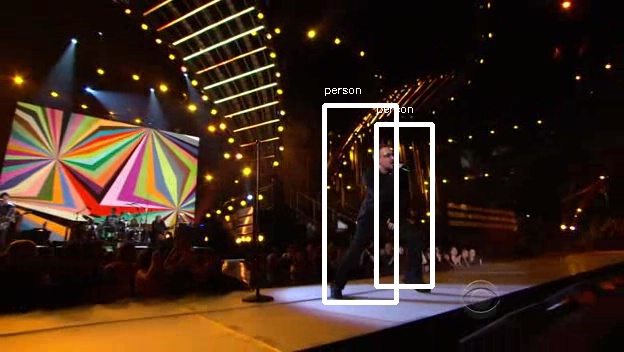person: (352, 147, 420, 248), (349, 147, 417, 248), (355, 147, 423, 248), (352, 144, 420, 245), (352, 150, 420, 251)
target_negative: (320, 90, 551, 293), (24, 253, 596, 326), (108, 213, 430, 329), (429, 106, 597, 154), (218, 297, 270, 316), (592, 229, 613, 241)
